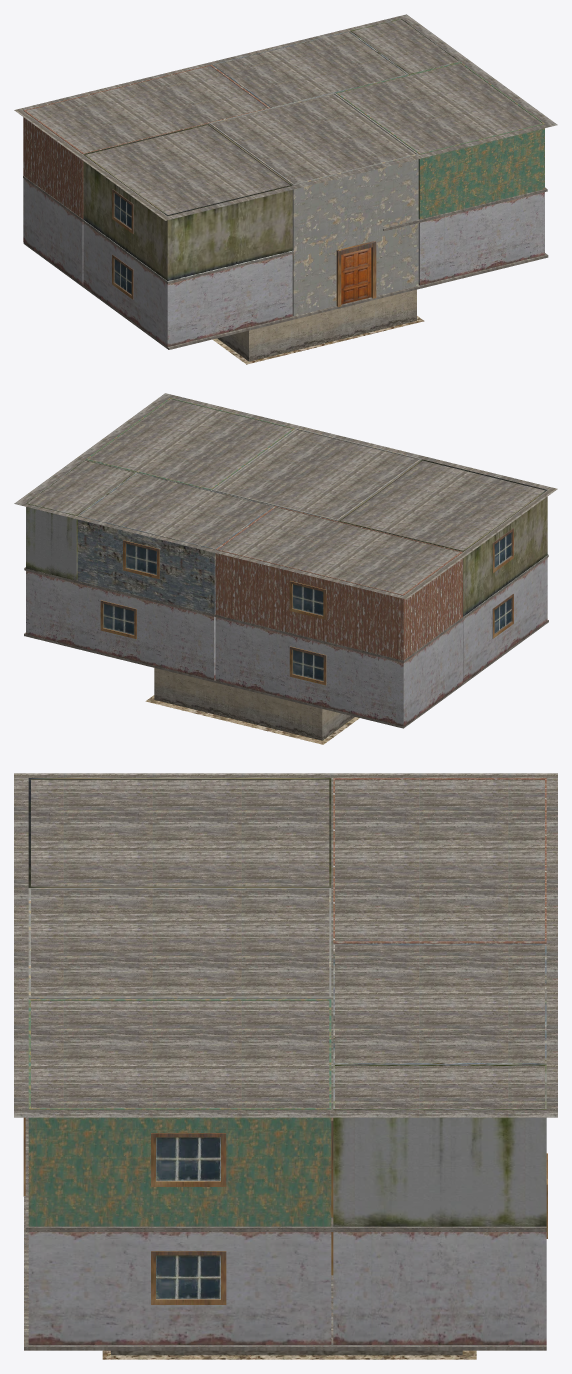
File: granyhouse.glb
3 renders of one model, top to bottom at view 1: azimuth 30°, elevation 25°; view 2: azimuth 150°, elevation 25°; view 3: azimuth 270°, elevation 25°, orthographic. The views are drawn at different scales.
Size of the model in its own units: 0.4228 by 0.1944 by 0.2821.
Materials: 15 (15 with a texture image).
